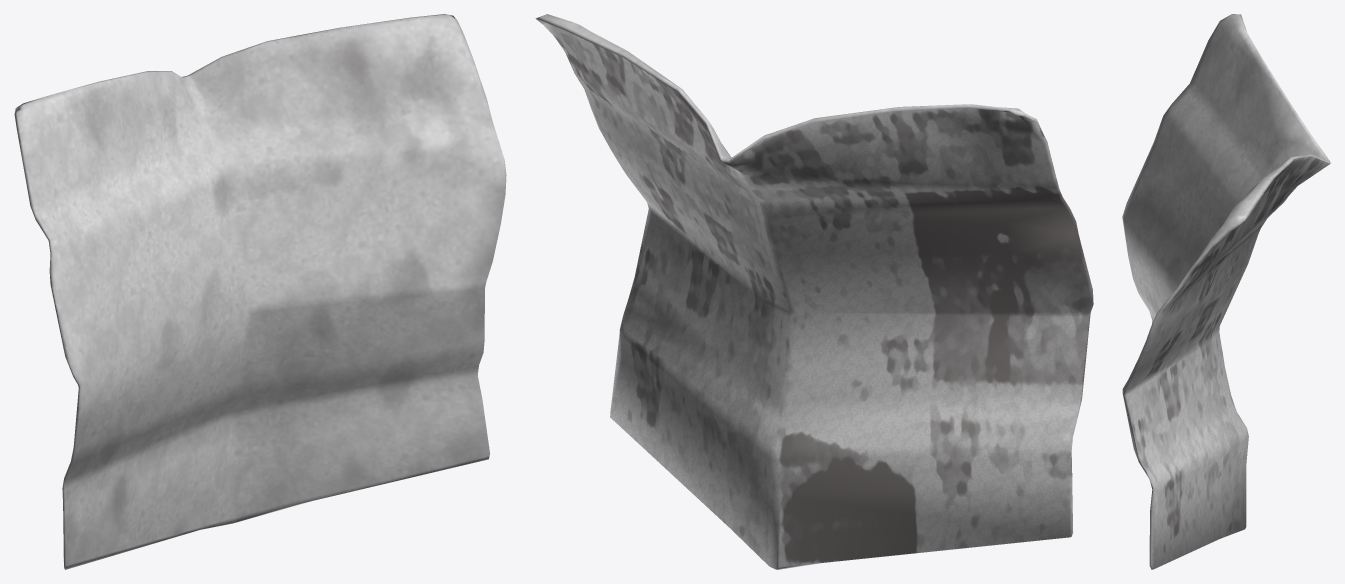
File: Journal.fbx
The picture shows the model from 3 angles, left to right: view 1: azimuth 30°, elevation 25°; view 2: azimuth 150°, elevation 25°; view 3: azimuth 270°, elevation 25°; orthographic projection. The views are drawn at different scales.
Visible parts, largest first — view 1: JournalL; view 2: JournalL; view 3: JournalL.
Part boxes in pixels (x1,y1,x2,y2): JournalL: (14, 14, 506, 569); JournalL: (535, 14, 1093, 569); JournalL: (1122, 14, 1330, 569).
Bounding box in the file's own units: 76.07 × 76.02 × 34.07.
